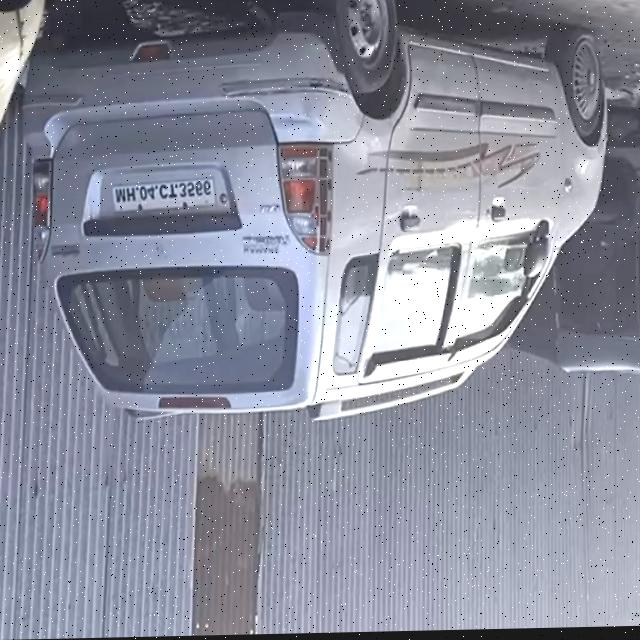plate: (108, 177, 218, 216)
